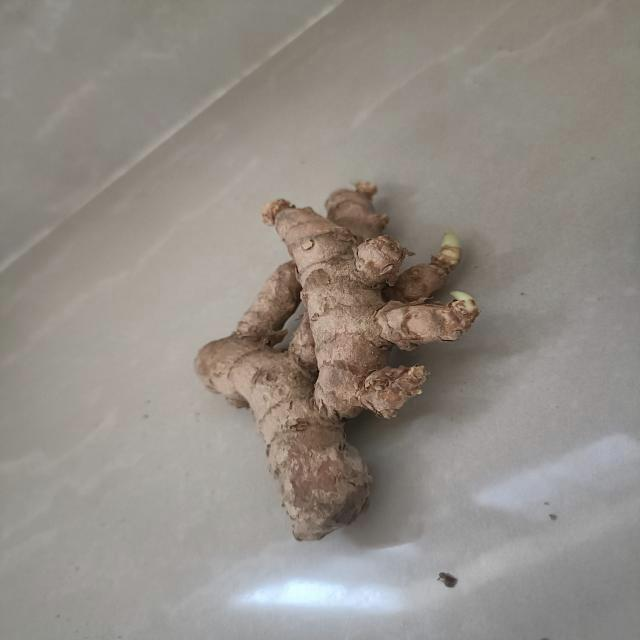ginger: (188, 179, 484, 552)
